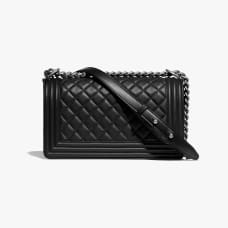channel: (27, 56, 206, 167)
